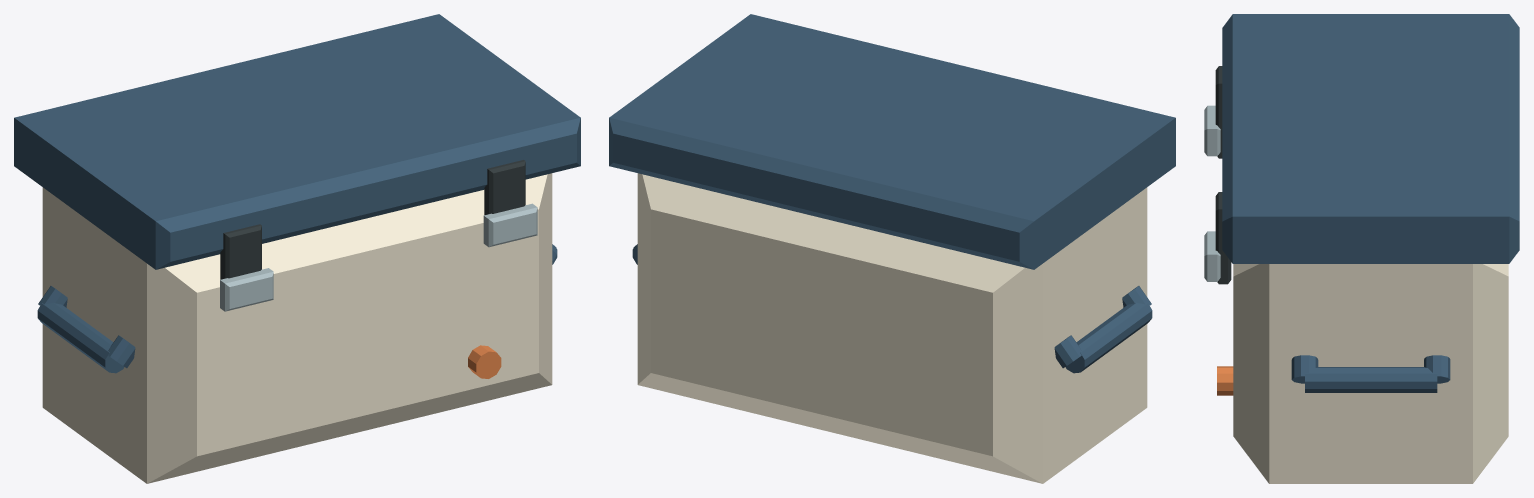
File: harbor-and-tackle-insulated-catch-cooler-127133d0__19573.glb
3 renders of one model, left to right at view 1: azimuth 30°, elevation 25°; view 2: azimuth 150°, elevation 25°; view 3: azimuth 270°, elevation 25°, orthographic. The views are drawn at different scales.
Parts seen in each view (by area): view 1: ivory, navy, rubber, metal, orange; view 2: ivory, navy; view 3: navy, ivory, metal, rubber, orange.
Boxes of the visible parts, box(x1,y1,x2,y2) form: ivory: box(42, 173, 552, 483); navy: box(14, 14, 580, 373); rubber: box(220, 160, 525, 279); metal: box(220, 203, 537, 311); orange: box(468, 345, 501, 378); ivory: box(637, 173, 1147, 483); navy: box(609, 14, 1175, 373); navy: box(1222, 14, 1519, 392); ivory: box(1233, 264, 1508, 483); metal: box(1204, 105, 1220, 281); rubber: box(1215, 66, 1231, 284); orange: box(1217, 366, 1233, 395).
Bounding box in the file's own units: 0.9257 × 0.545 × 0.573.
